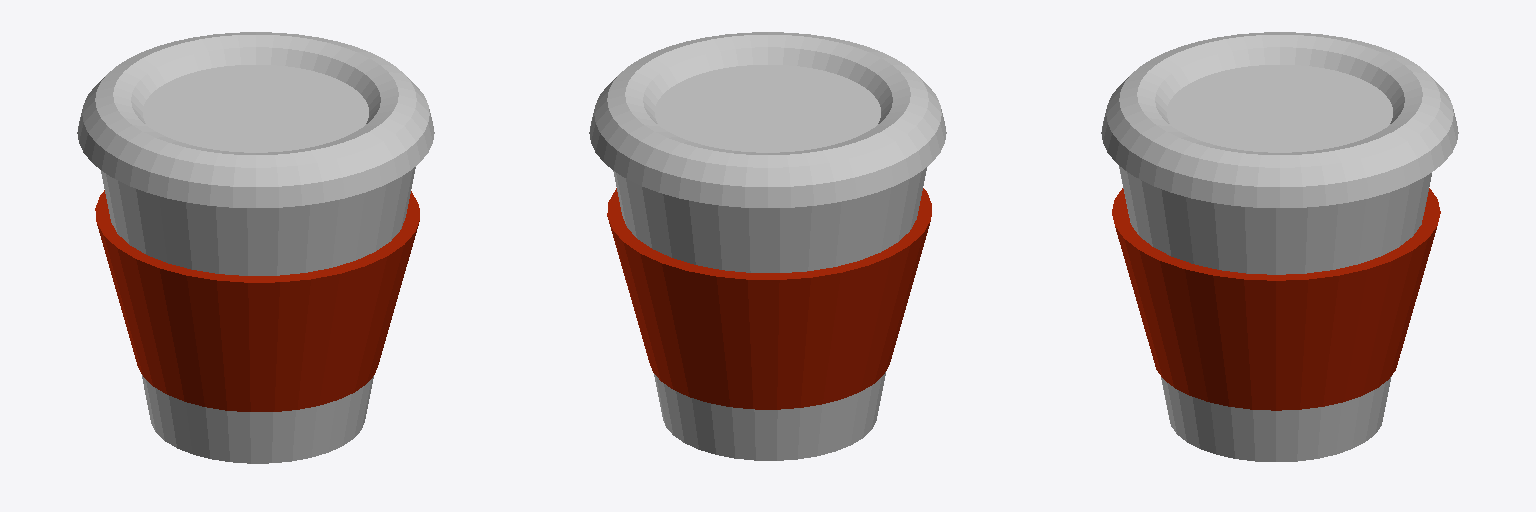
Rendered from coffee.obj.
3 renders of one model, left to right at view 1: azimuth 30°, elevation 25°; view 2: azimuth 150°, elevation 25°; view 3: azimuth 270°, elevation 25°, orthographic.
Visible parts, largest first — view 1: Cylinder, Cylinder.001, Torus.001; view 2: Cylinder, Cylinder.001, Torus.001; view 3: Cylinder, Cylinder.001, Torus.001.
Part boxes in pixels (x1,y1,x2,y2): Cylinder: (101, 65, 415, 463); Cylinder.001: (95, 190, 419, 411); Torus.001: (77, 32, 434, 207); Cylinder: (613, 65, 926, 460); Cylinder.001: (607, 188, 931, 409); Torus.001: (589, 32, 946, 207); Cylinder: (1119, 65, 1431, 461); Cylinder.001: (1112, 188, 1440, 410); Torus.001: (1101, 32, 1458, 207).
Bounding box in the file's own units: 2.12 × 2.12 × 2.12.